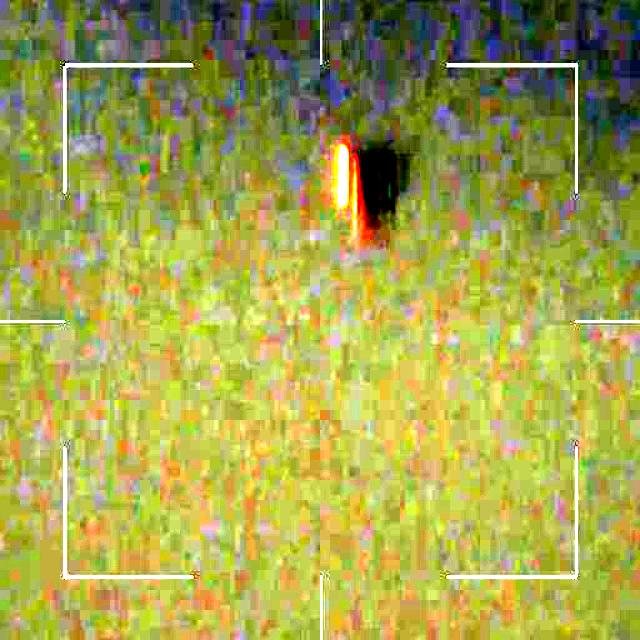bird: (329, 134, 415, 231)
